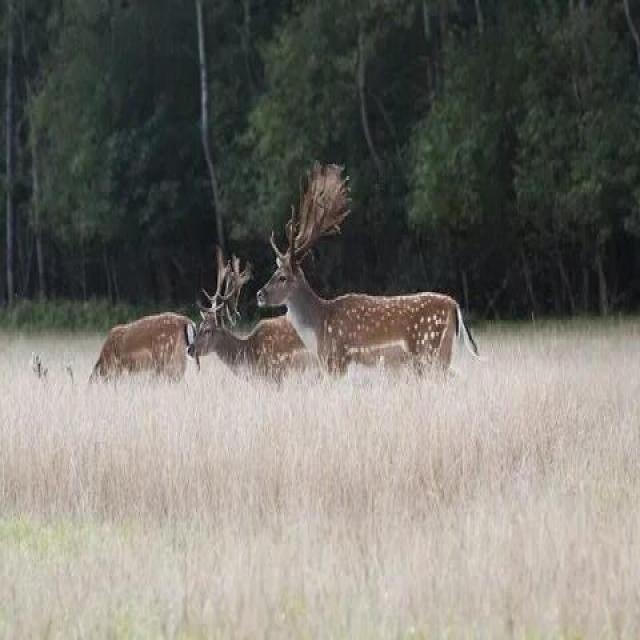deer: (251, 208, 489, 476), (180, 265, 348, 439), (73, 286, 214, 458)
